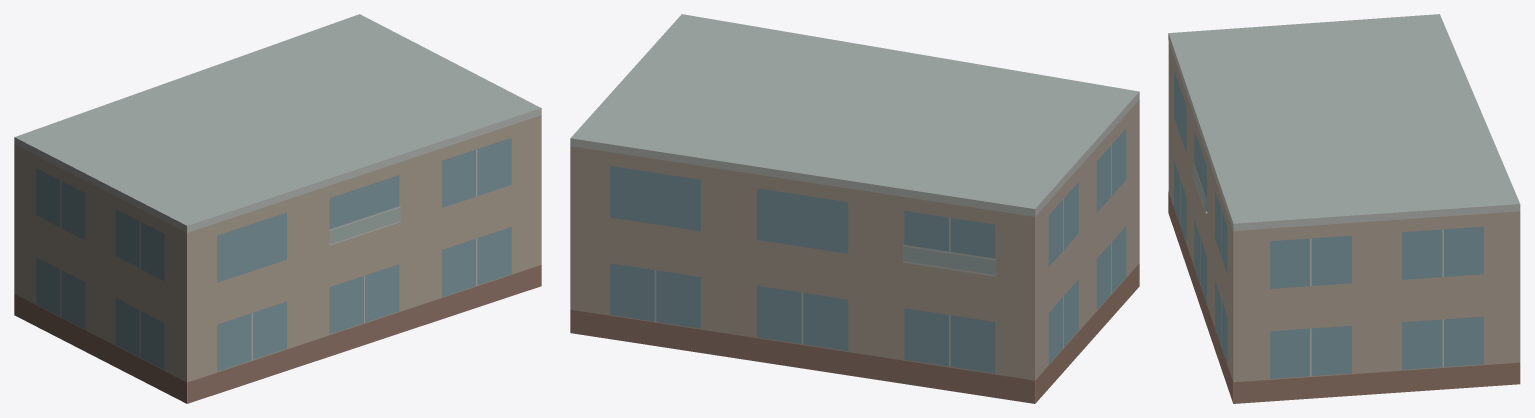
File: survey-upis-32880843.glb
The picture shows the model from 3 angles, left to right: view 1: azimuth 30°, elevation 25°; view 2: azimuth 150°, elevation 25°; view 3: azimuth 270°, elevation 25°; orthographic projection. The views are drawn at different scales.
Parts seen in each view (by area): view 1: survey-upis-32880843.tmp; view 2: survey-upis-32880843.tmp; view 3: survey-upis-32880843.tmp.
Part boxes in pixels (x1,y1,x2,y2): survey-upis-32880843.tmp: (14, 14, 541, 403); survey-upis-32880843.tmp: (570, 14, 1139, 403); survey-upis-32880843.tmp: (1168, 14, 1520, 403).
Bounding box in the file's own units: 15.25 × 6.1 × 10.81.
